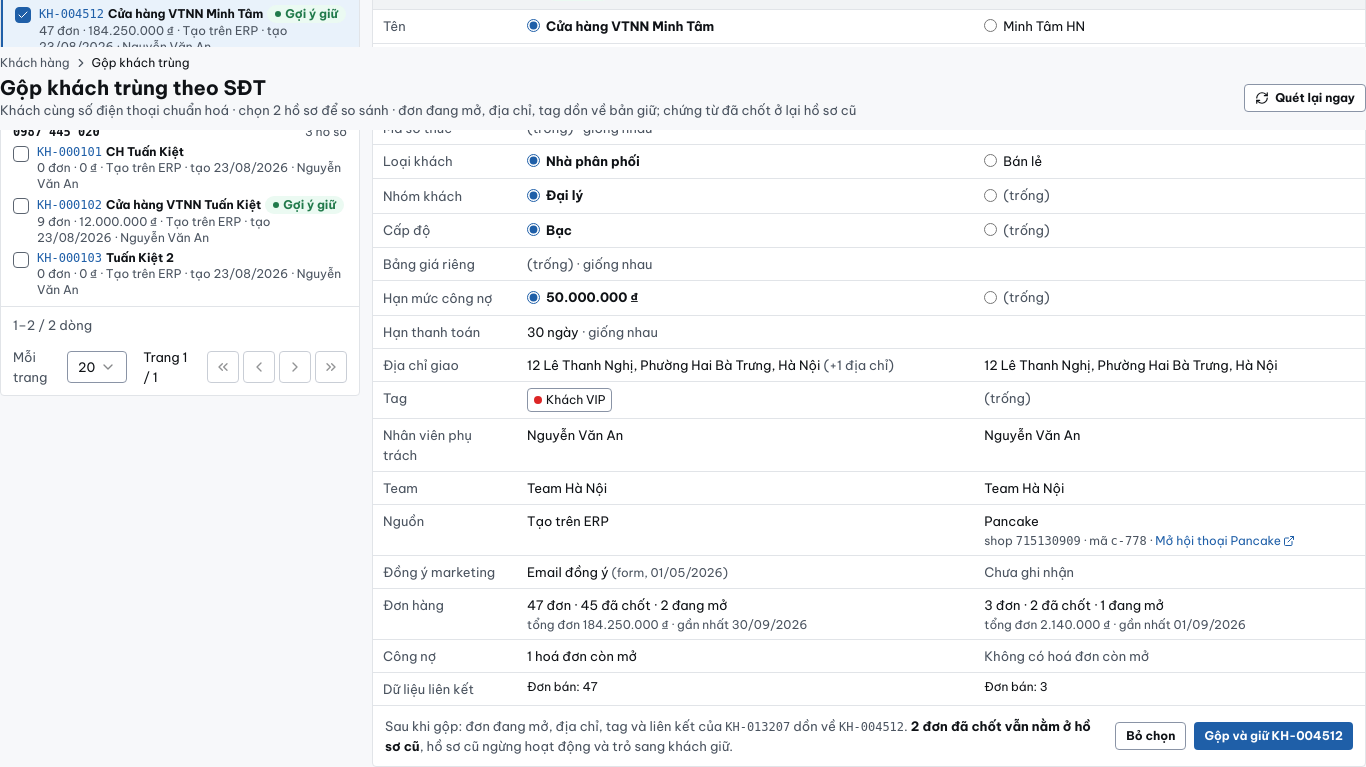
Test case: Gộp khách trùng — so sánh + gộp (CRM-10) › lỗi máy chủ → toast, bấm lại dùng đúng idempotencyKey cũ (luật 4)
(page scrolled)
Click the button "Gộp và giữ KH-004512".
click(1274, 736)  # box [1194,722,1353,750]
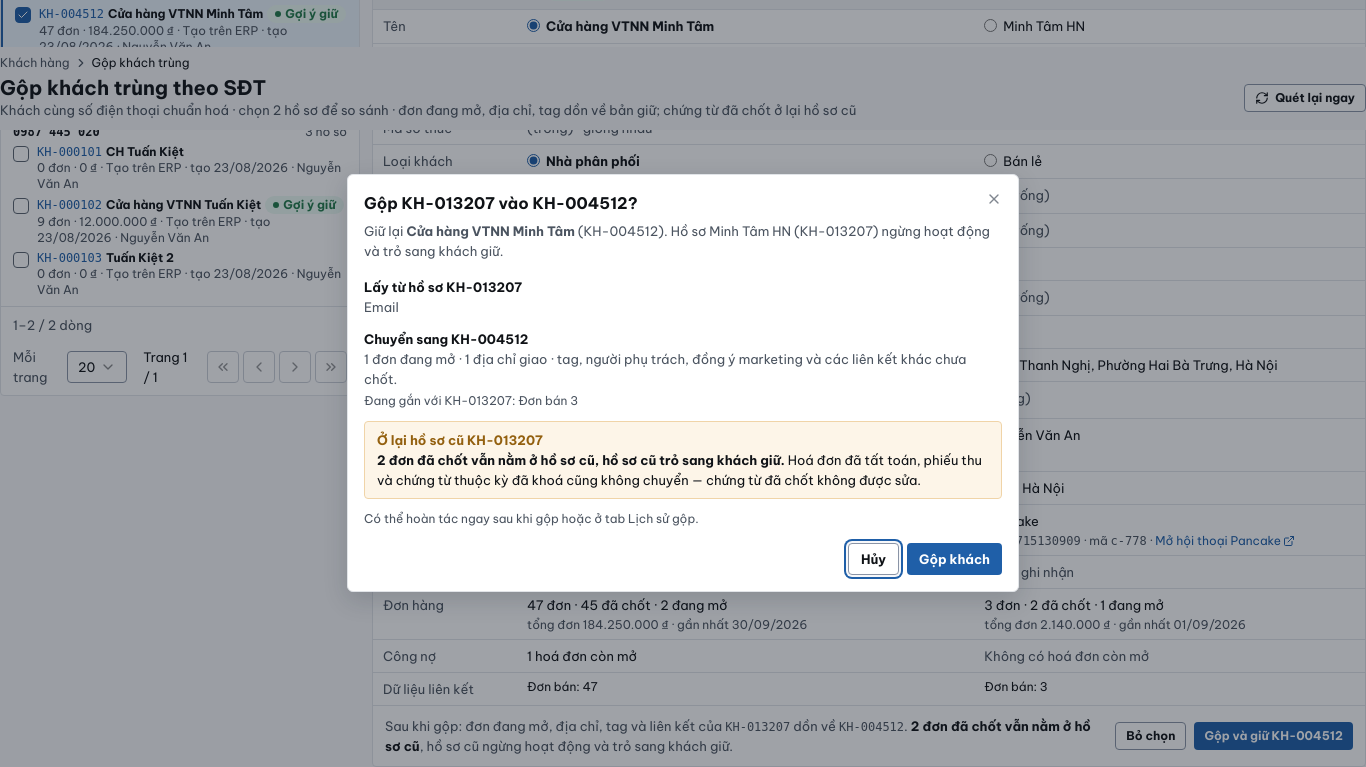
Click the button "Gộp khách".
click(955, 559)  # box [907,543,1002,575]
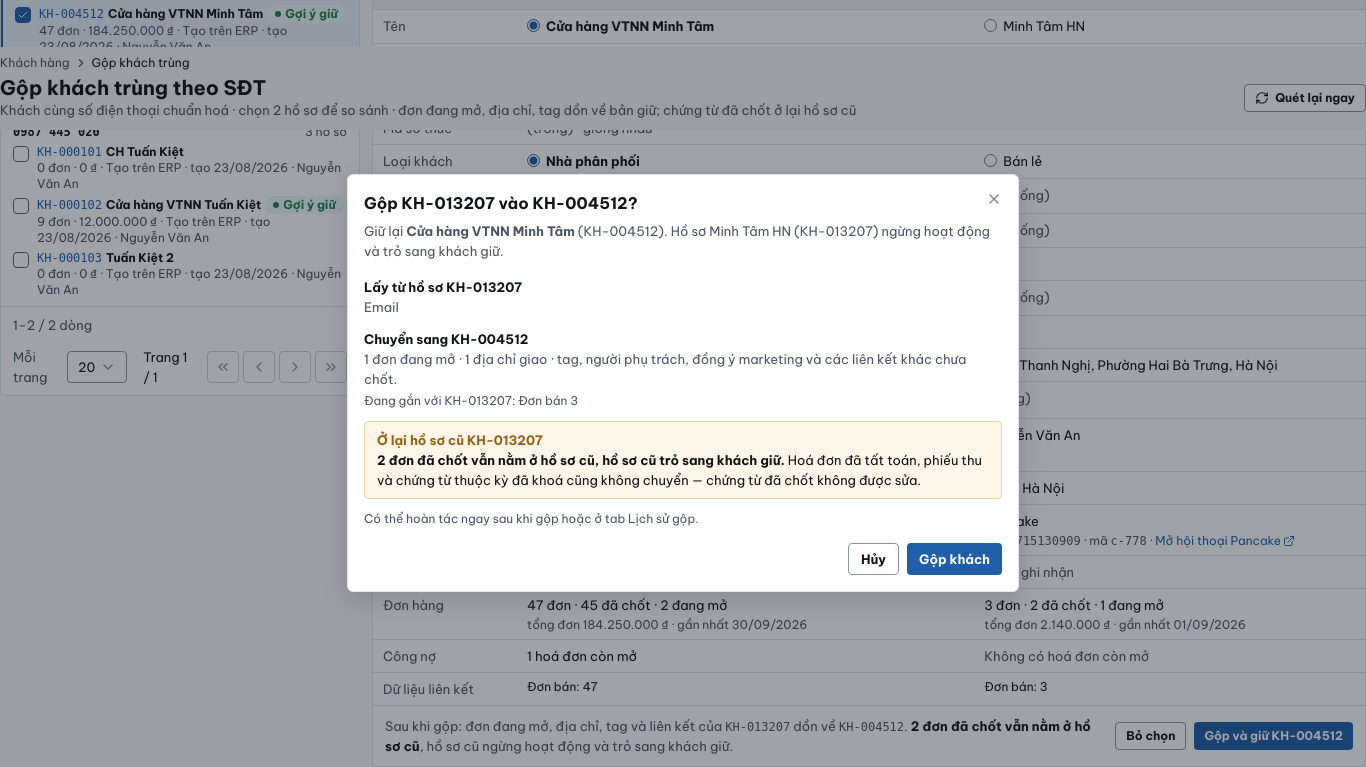
Click the button "Gộp khách".
click(955, 559)  # box [907,543,1002,575]
(page scrolled)
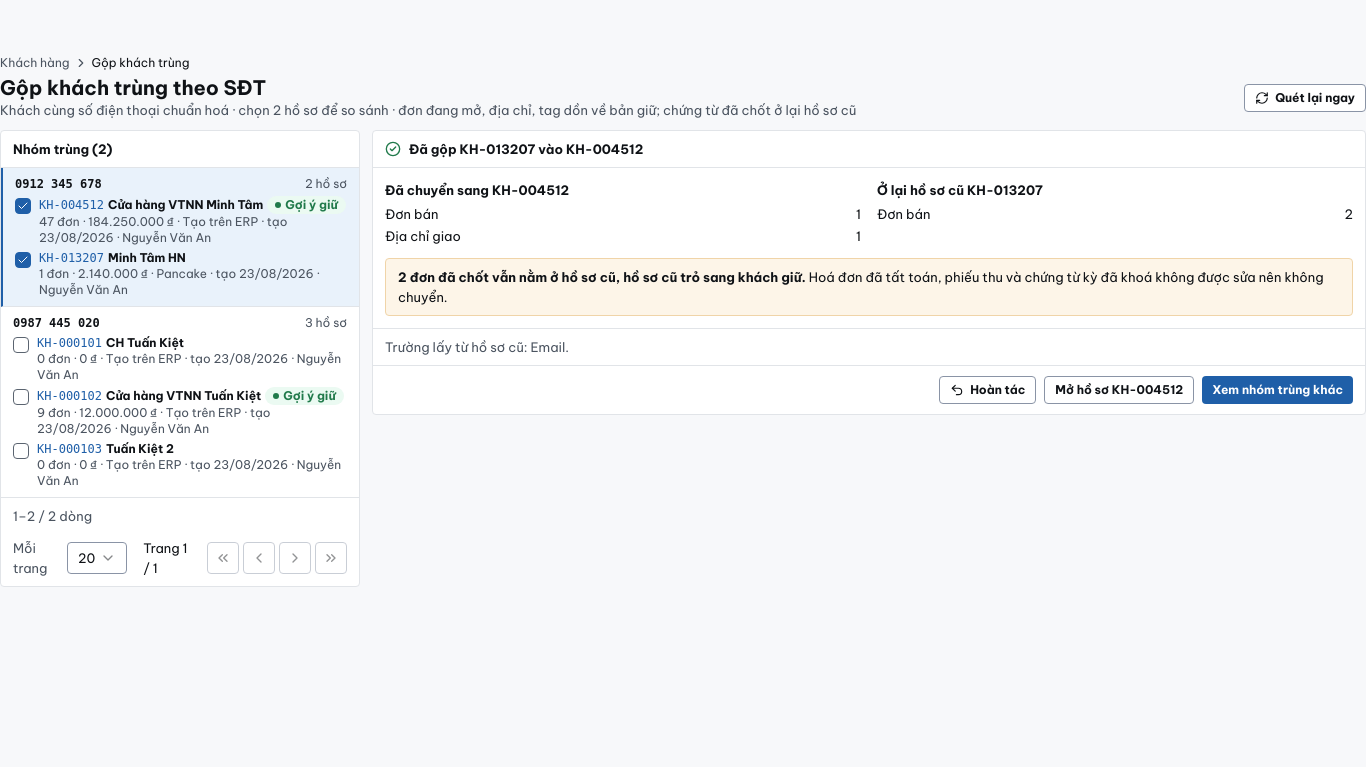
Expected: the element named "Kết quả gộp" is shown, [372,130,1365,415]
